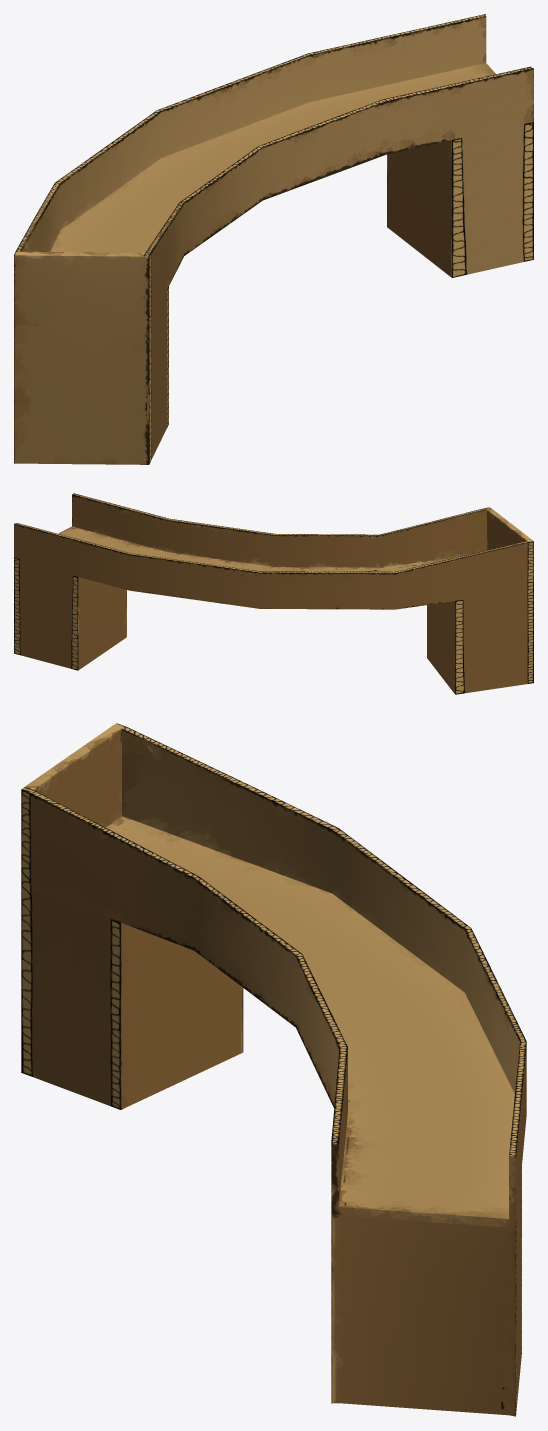
File: SM_Part8_Playtrack.fbx
3 renders of one model, top to bottom at view 1: azimuth 30°, elevation 25°; view 2: azimuth 150°, elevation 25°; view 3: azimuth 270°, elevation 25°, orthographic. The views are drawn at different scales.
Parts seen in each view (by area): view 1: Panel_8; view 2: Panel_8; view 3: Panel_8.
Boxes of the visible parts, x1=… form: Panel_8: x1=14, y1=14, x2=533, y2=464; Panel_8: x1=14, y1=493, x2=533, y2=694; Panel_8: x1=21, y1=723, x2=526, y2=1416.
Size of the model in its own units: 13719 by 4417 by 7148.
